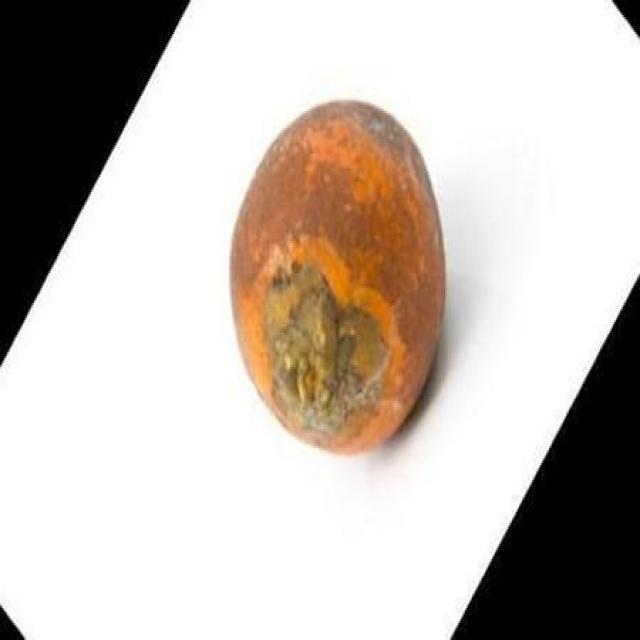good: (229, 100, 448, 459)
